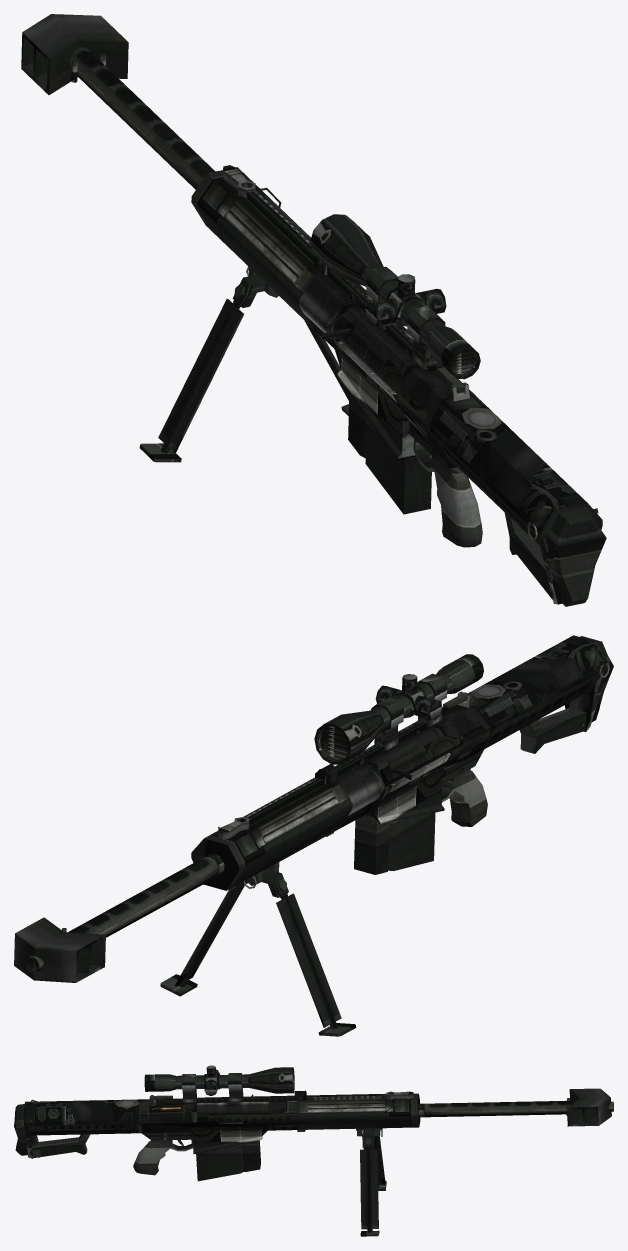
The model's file is world.glb.
3 renders of one model, top to bottom at view 1: azimuth 30°, elevation 25°; view 2: azimuth 150°, elevation 25°; view 3: azimuth 270°, elevation 25°, orthographic. The views are drawn at different scales.
Size of the model in its own units: 11.98 by 14.52 by 55.63.
Materials: 1 (1 with a texture image).
